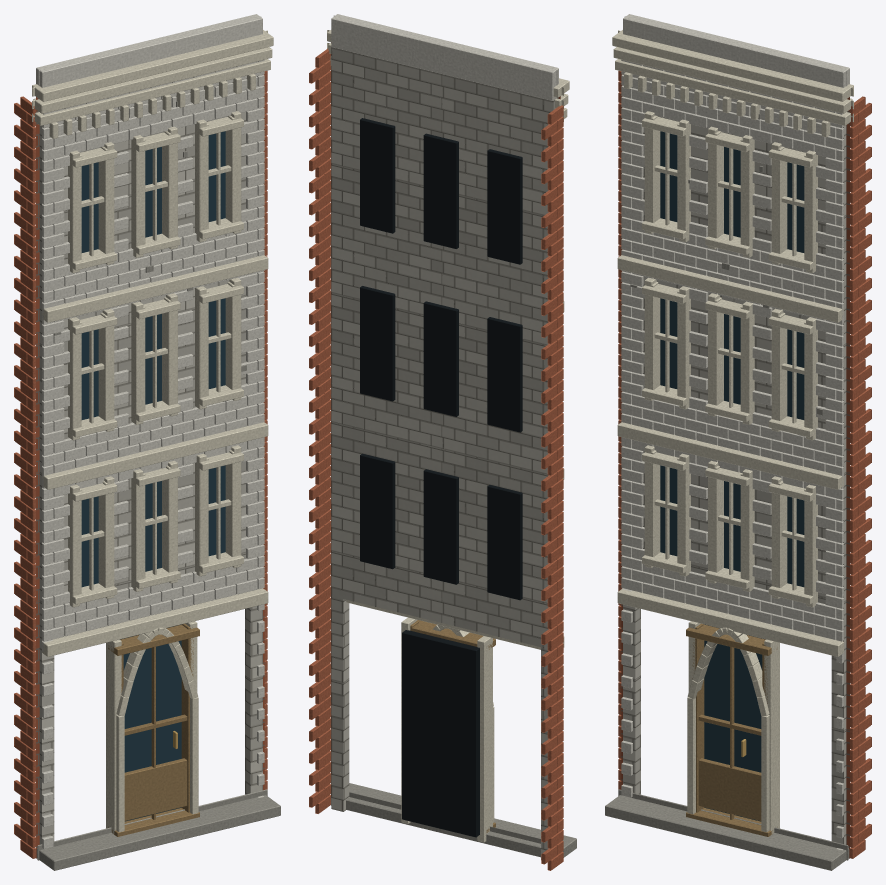
Rendered from OFFC21_lod0.glb.
3 views of the same model, side by side, from view 1: azimuth 30°, elevation 25°; view 2: azimuth 150°, elevation 25°; view 3: azimuth 330°, elevation 25° (orthographic).
Parts seen in each view (by area): view 1: OFFC21_FRONT_LOD0; view 2: OFFC21_FRONT_LOD0; view 3: OFFC21_FRONT_LOD0.
Boxes of the visible parts, x1=… form: OFFC21_FRONT_LOD0: x1=14, y1=14, x2=280, y2=870; OFFC21_FRONT_LOD0: x1=309, y1=14, x2=576, y2=870; OFFC21_FRONT_LOD0: x1=605, y1=14, x2=871, y2=870.
Bounding box in the file's own units: 3.84 × 12.26 × 1.02.
Materials: 15 (12 with a texture image).
